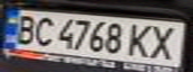4: (54, 16, 75, 50)
6: (87, 18, 109, 53)
7: (69, 17, 90, 52)
8: (103, 20, 127, 56)
B: (9, 11, 39, 45)
C: (30, 15, 57, 47)
K: (124, 20, 157, 58)
X: (145, 23, 187, 62)
